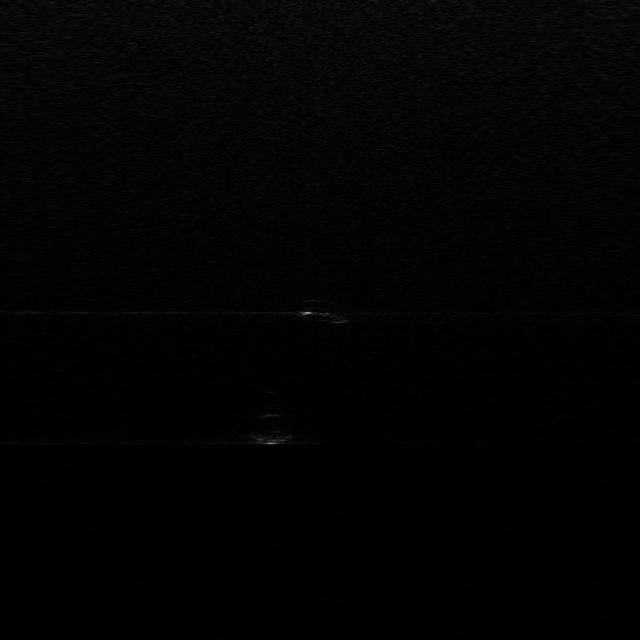ball: (246, 408, 300, 443)
tyre: (299, 294, 352, 326)
